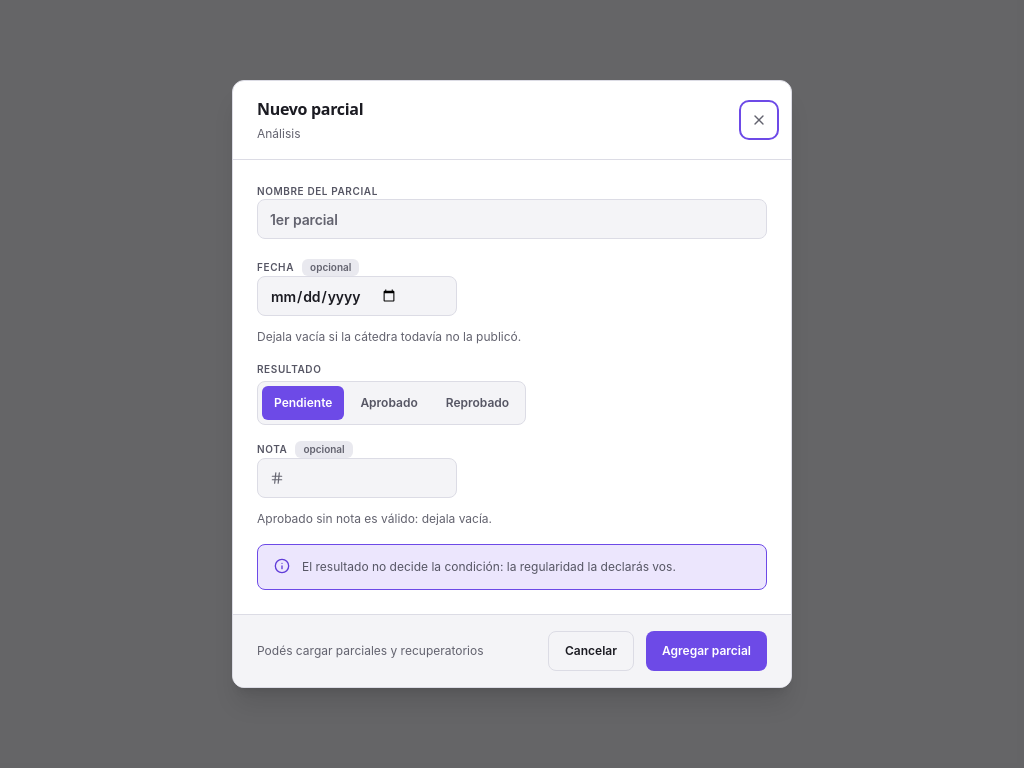
Test: NuevoParcialModal › does not submit without a name
Click the button "Agregar parcial" at (706, 651), box [646,631,767,671]
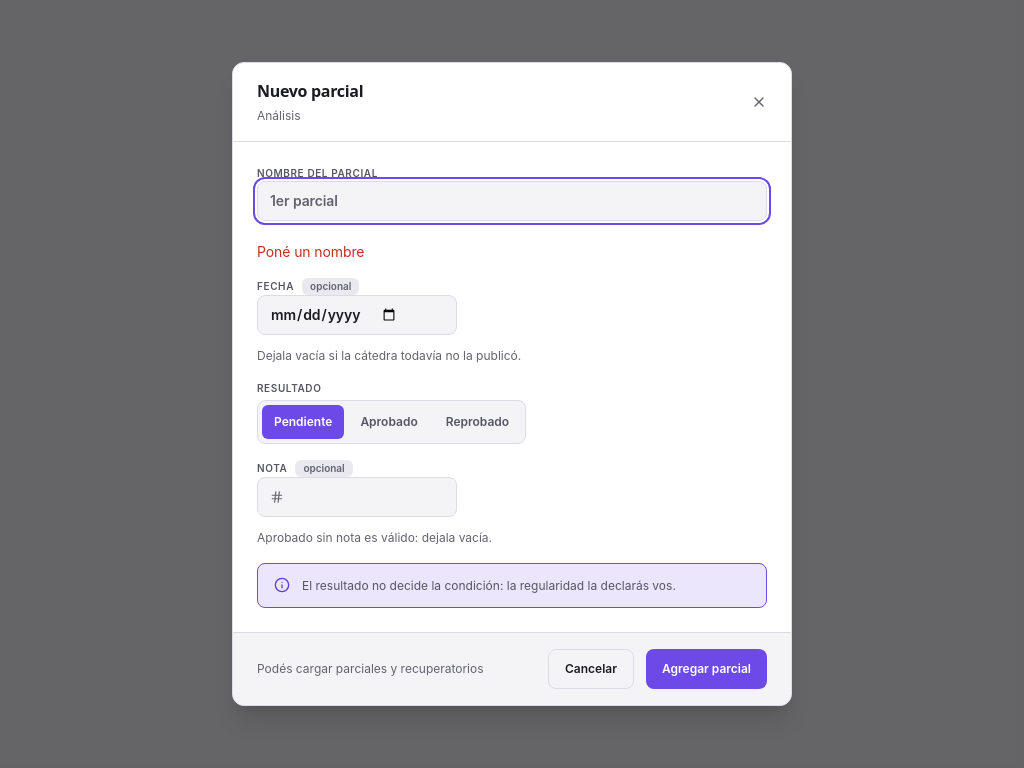
Result: the text "Poné un nombre" is shown at [257,243,364,260]
